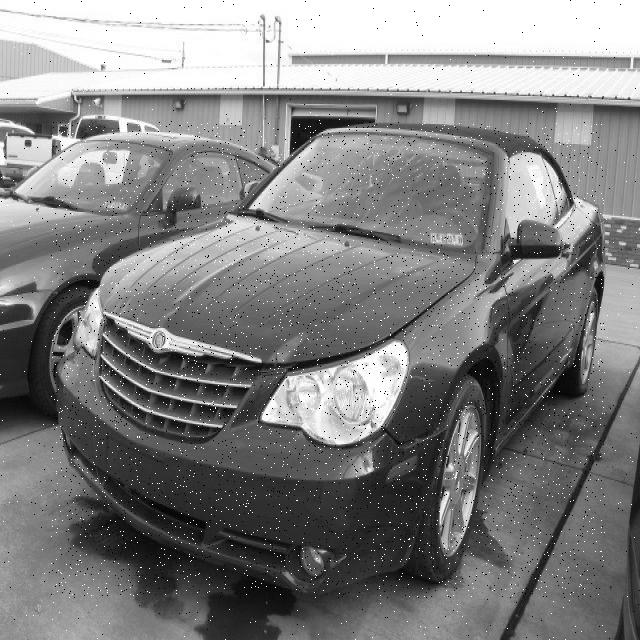Sedan: (51, 122, 605, 598)
